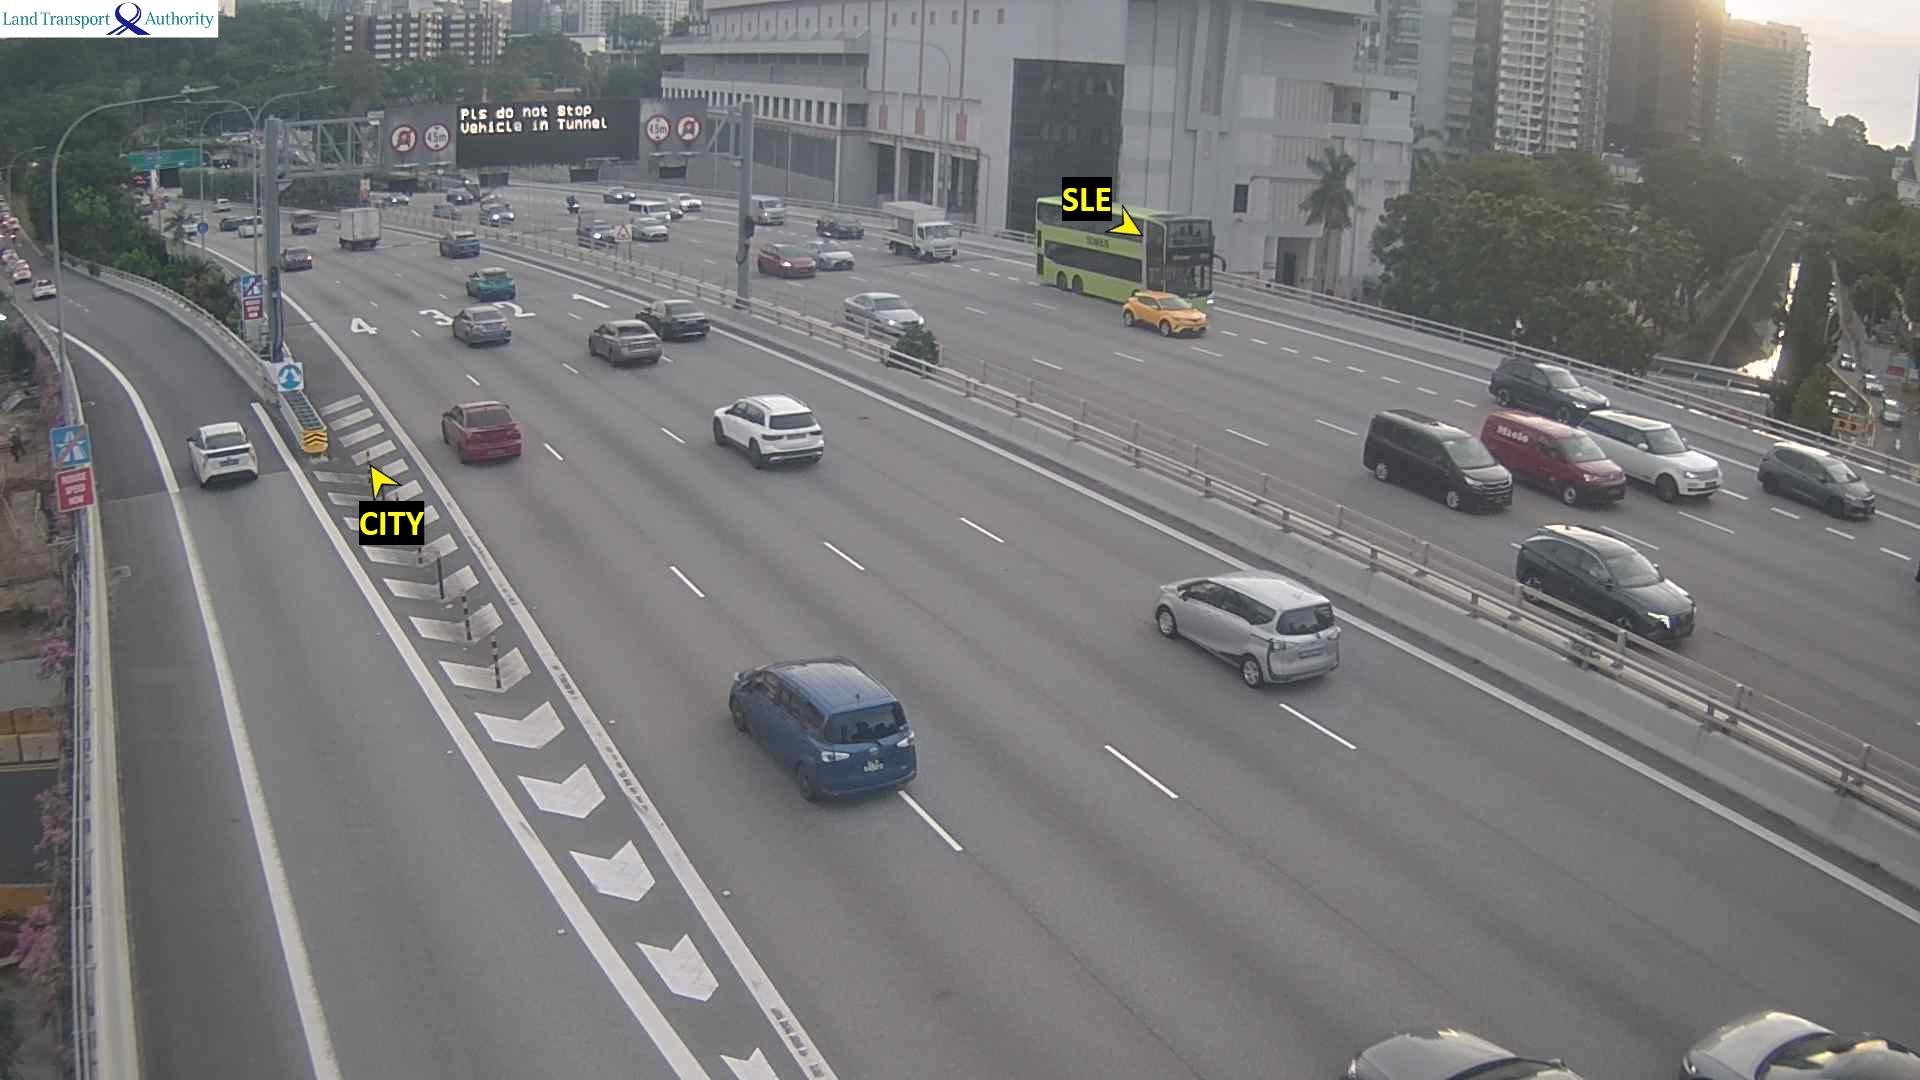incoming: (1601, 554, 1700, 641), (1644, 426, 1724, 500), (1437, 439, 1515, 509), (1164, 218, 1226, 293), (1553, 436, 1625, 501), (1542, 361, 1611, 413), (1822, 458, 1879, 518), (1156, 295, 1211, 338), (916, 219, 964, 264), (870, 295, 926, 330), (775, 247, 818, 276), (819, 244, 857, 266), (760, 198, 787, 228), (835, 216, 866, 239), (642, 220, 671, 241)
